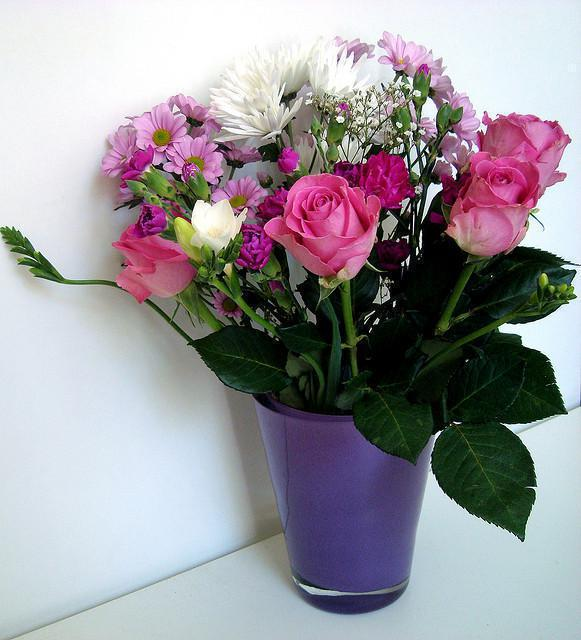Matera: (71, 57, 565, 614)
